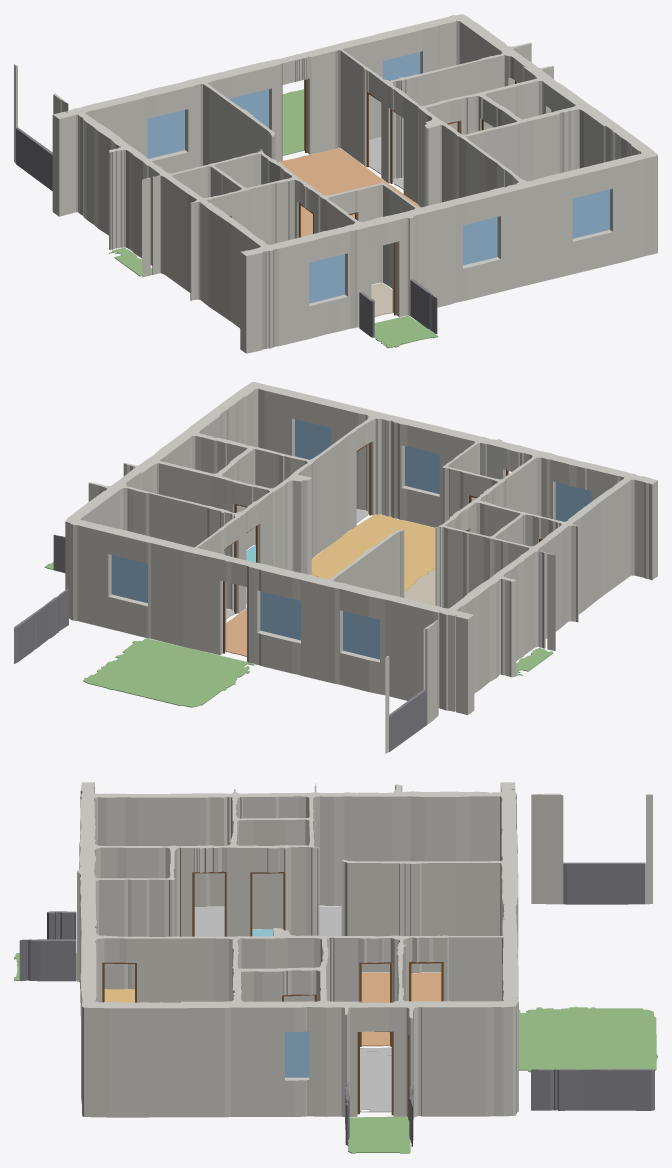
3 views of the same model, one above another, from view 1: azimuth 30°, elevation 25°; view 2: azimuth 150°, elevation 25°; view 3: azimuth 270°, elevation 25° (orthographic). The views are drawn at different scales.
Parts seen in each view (by area): view 1: walls, floor_5_Living_Room, railings, window_19, window_13, window_20, window_18, floor_3_Outdoor, floor_0_Outdoor, window_15, window_14, floor_13_Entry; view 2: walls, floor_3_Outdoor, floor_4_Kitchen, railings, window_14, window_13, window_15, window_18, window_19, window_20, floor_5_Living_Room, floor_14_Entry; view 3: walls, railings, floor_3_Outdoor, floor_5_Living_Room, floor_2_Outdoor, floor_20_Undefined, window_17, floor_6_Bed_Room, floor_9_Bed_Room.
Boxes of the visible parts, bbox=[...] form: walls: bbox=[14, 14, 657, 353]; floor_5_Living_Room: bbox=[279, 148, 420, 236]; railings: bbox=[16, 127, 437, 337]; window_19: bbox=[572, 189, 609, 238]; window_13: bbox=[147, 110, 184, 158]; window_20: bbox=[309, 254, 344, 303]; window_18: bbox=[463, 217, 497, 265]; floor_3_Outdoor: bbox=[282, 89, 303, 155]; floor_0_Outdoor: bbox=[374, 315, 438, 348]; window_15: bbox=[383, 52, 420, 80]; window_14: bbox=[229, 89, 268, 127]; floor_13_Entry: bbox=[371, 282, 392, 316]; walls: bbox=[65, 382, 657, 753]; floor_3_Outdoor: bbox=[83, 638, 254, 707]; floor_4_Kitchen: bbox=[310, 514, 435, 591]; railings: bbox=[14, 534, 426, 751]; window_14: bbox=[260, 591, 300, 640]; window_13: bbox=[343, 611, 379, 659]; window_15: bbox=[111, 555, 147, 603]; window_18: bbox=[405, 446, 439, 493]; window_19: bbox=[295, 419, 331, 459]; window_20: bbox=[555, 482, 591, 521]; floor_5_Living_Room: bbox=[226, 576, 318, 656]; floor_14_Entry: bbox=[404, 568, 435, 605]; walls: bbox=[77, 782, 652, 1123]; railings: bbox=[19, 862, 654, 1146]; floor_3_Outdoor: bbox=[519, 1006, 657, 1072]; floor_5_Living_Room: bbox=[361, 972, 441, 1046]; floor_2_Outdoor: bbox=[348, 1116, 410, 1153]; floor_20_Undefined: bbox=[360, 1047, 391, 1112]; window_17: bbox=[285, 1031, 309, 1077]; floor_6_Bed_Room: bbox=[194, 907, 224, 936]; floor_9_Bed_Room: bbox=[319, 906, 341, 936].
Bounding box in the file's own units: 13.85 × 2.72 × 14.42.
